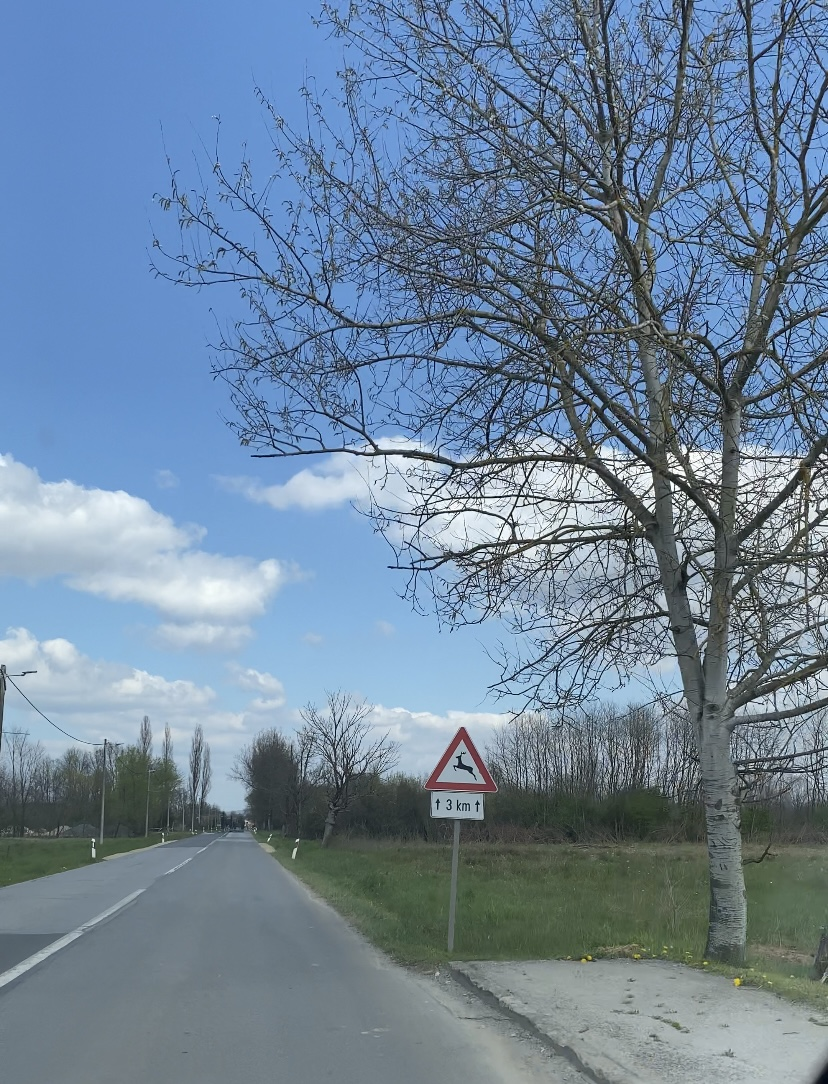Divljač na cesti: (424, 726, 497, 793)
